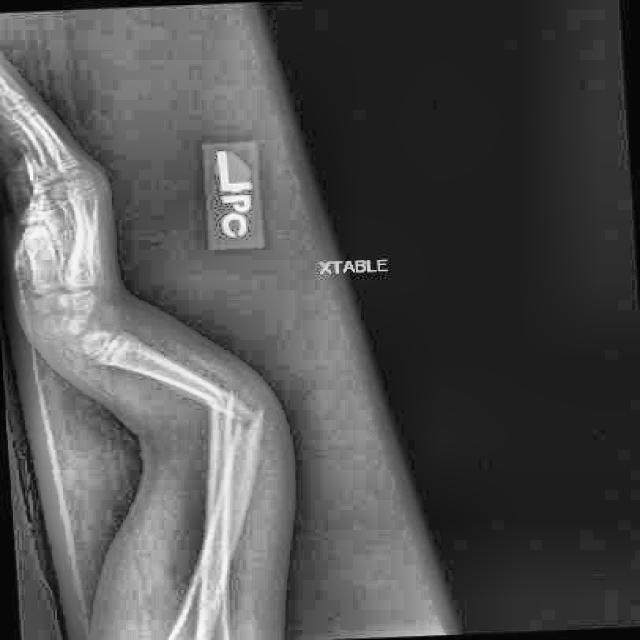forearm fracture: (142, 340, 331, 510)
